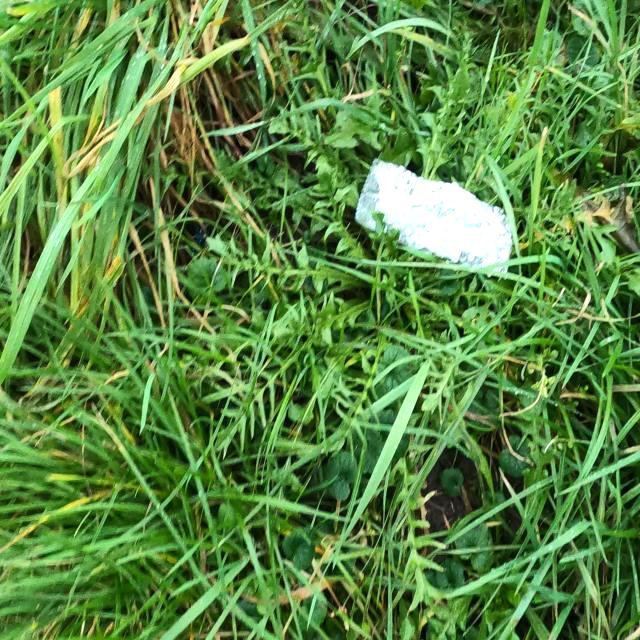Plastic: (353, 157, 513, 281)
